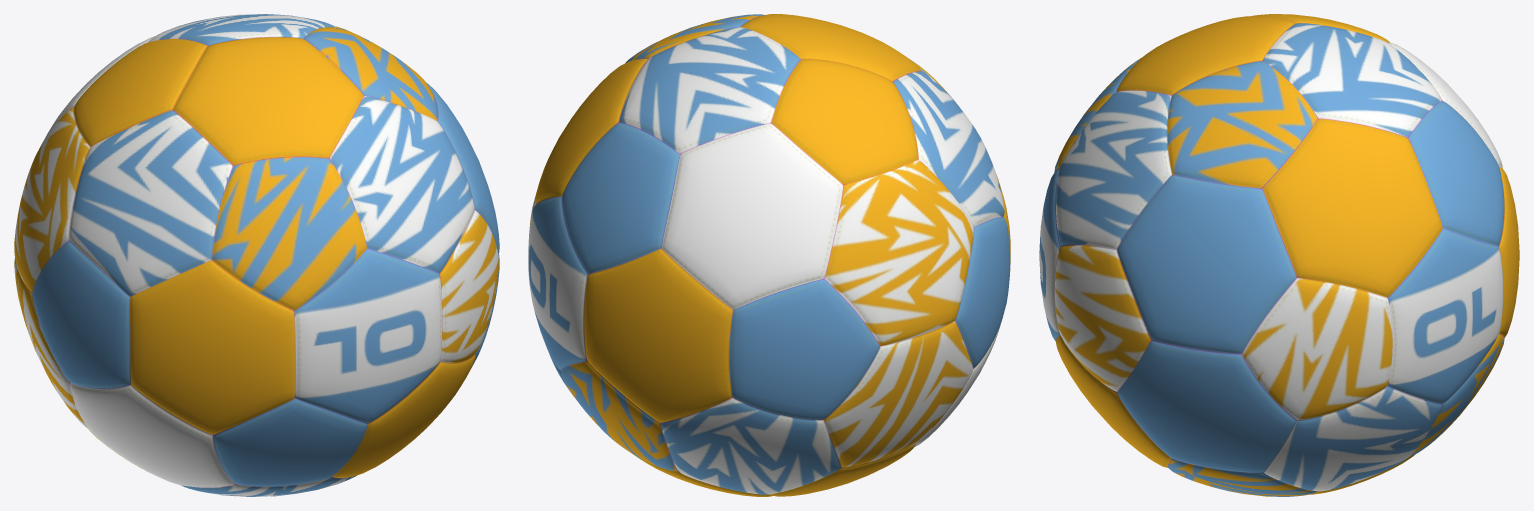
Rendered from Ball-1b.glb.
3 views of the same model, side by side, from view 1: azimuth 30°, elevation 25°; view 2: azimuth 150°, elevation 25°; view 3: azimuth 270°, elevation 25° (orthographic).
Visible parts, largest first — view 1: Ball.001; view 2: Ball.001; view 3: Ball.001.
Boxes of the visible parts, <box> form: Ball.001: <box>14,14,499,496</box>; Ball.001: <box>528,14,1010,496</box>; Ball.001: <box>1039,14,1519,496</box>.
Bounding box in the file's own units: 1.56 × 1.55 × 1.55.
Materials: 1 (1 with a texture image).
